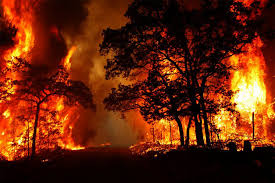fire: (10, 1, 269, 157)
